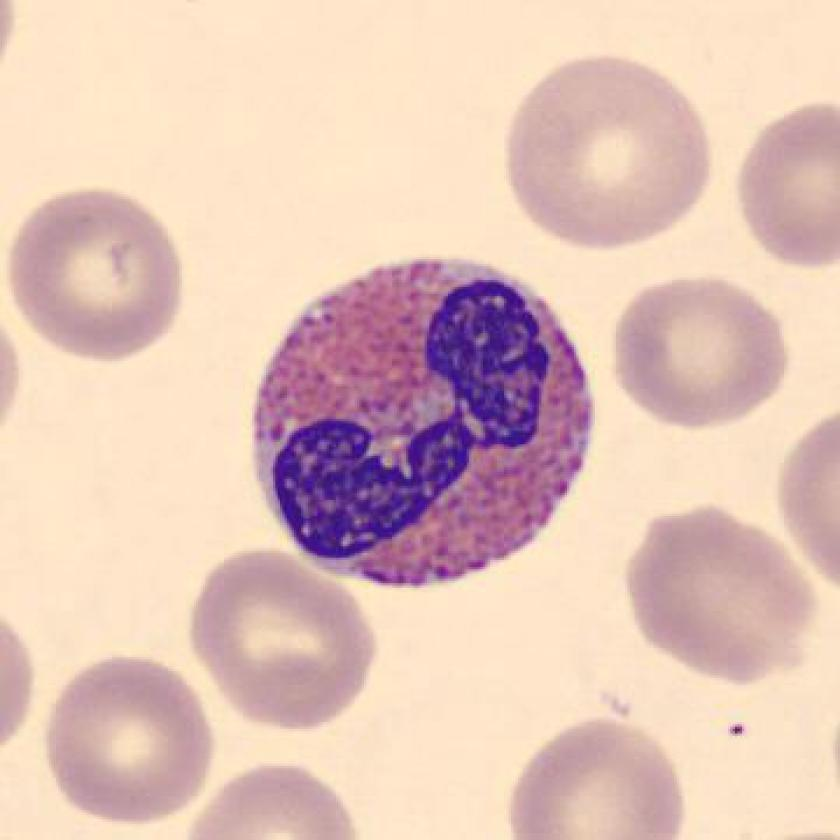eosinophil: (239, 239, 608, 603)
